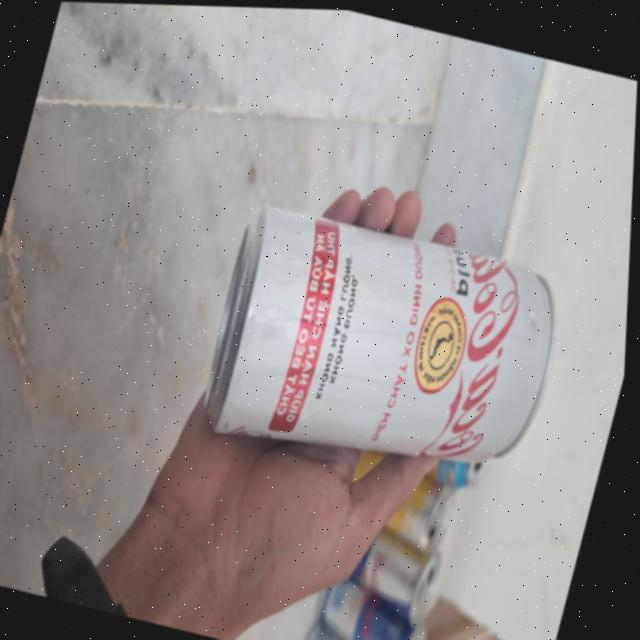Coca Cola Plus: (186, 137, 596, 529)
